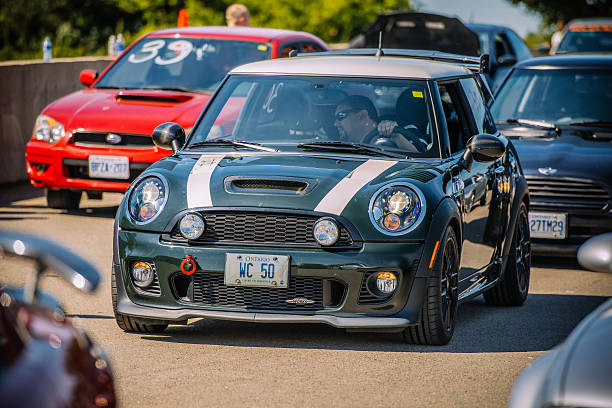licence: (220, 252, 289, 286)
